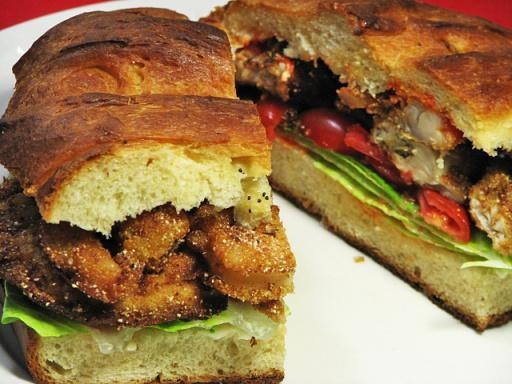background: (0, 0, 410, 230)
